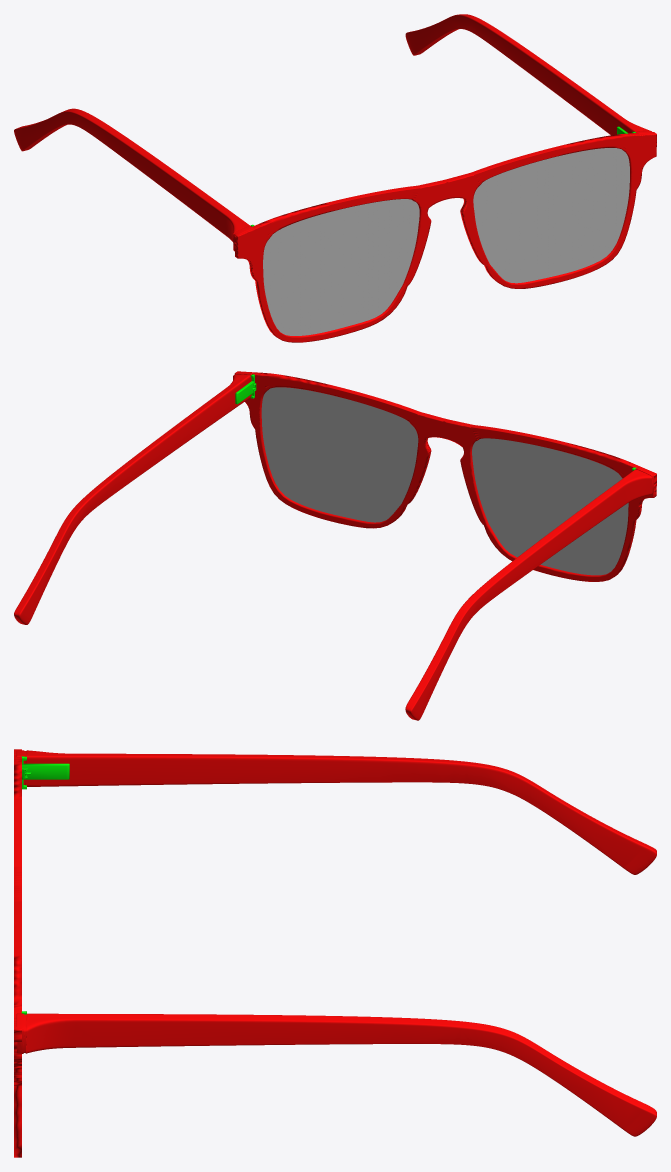
File: GlassesSimpler.fbx
3 renders of one model, top to bottom at view 1: azimuth 30°, elevation 25°; view 2: azimuth 150°, elevation 25°; view 3: azimuth 270°, elevation 25°, orthographic. The views are drawn at different scales.
Parts seen in each view (by area): view 1: planarTrimmedSurface1, dpsBirailSurface17, polySurface32, polySurface31; view 2: planarTrimmedSurface1, dpsBirailSurface17, polySurface32, polySurface31; view 3: polySurface31, polySurface32, dpsBirailSurface17, polySurface22______.
Boxes of the visible parts, x1,y1,x2,y2 form: planarTrimmedSurface1: (263, 148, 629, 335); dpsBirailSurface17: (234, 132, 656, 342); polySurface32: (14, 108, 253, 251); polySurface31: (405, 14, 652, 135); planarTrimmedSurface1: (261, 387, 628, 575); dpsBirailSurface17: (234, 371, 656, 581); polySurface32: (405, 467, 653, 720); polySurface31: (14, 372, 253, 624); polySurface31: (16, 1013, 656, 1136); polySurface32: (16, 750, 656, 874); dpsBirailSurface17: (14, 749, 21, 1157); polySurface22______: (22, 763, 69, 779).
Size of the model in its own units: 16.88 by 5.14 by 16.37.
